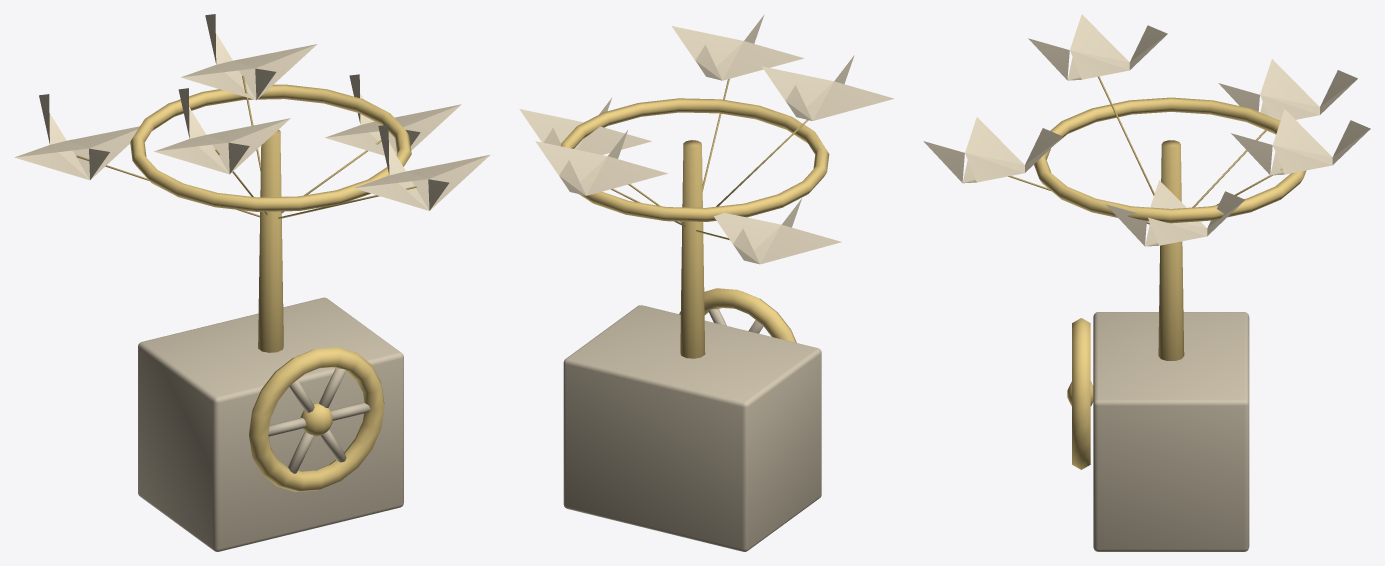
File: discovery_kite-garden.glb
3 views of the same model, side by side, from view 1: azimuth 30°, elevation 25°; view 2: azimuth 150°, elevation 25°; view 3: azimuth 270°, elevation 25° (orthographic). The views are drawn at different scales.
Parts seen in each view (by area): view 1: discovery_kite-garden_part_0, discovery_kite-garden_part_1, discovery_kite-garden_part_3, discovery_kite-garden_part_6, discovery_kite-garden_part_4, discovery_kite-garden_part_5, discovery_kite-garden_part_2; view 2: discovery_kite-garden_part_0, discovery_kite-garden_part_4, discovery_kite-garden_part_3, discovery_kite-garden_part_6, discovery_kite-garden_part_5, discovery_kite-garden_part_2, discovery_kite-garden_part_1; view 3: discovery_kite-garden_part_0, discovery_kite-garden_part_4, discovery_kite-garden_part_3, discovery_kite-garden_part_6, discovery_kite-garden_part_5, discovery_kite-garden_part_2, discovery_kite-garden_part_1.
Boxes of the visible parts, x1,y1,x2,y2 form: discovery_kite-garden_part_0: (130, 84, 411, 551); discovery_kite-garden_part_1: (249, 347, 384, 491); discovery_kite-garden_part_3: (278, 124, 490, 219); discovery_kite-garden_part_6: (181, 14, 317, 170); discovery_kite-garden_part_4: (154, 88, 290, 215); discovery_kite-garden_part_5: (14, 94, 259, 217); discovery_kite-garden_part_2: (281, 74, 461, 213); discovery_kite-garden_part_0: (561, 98, 829, 551); discovery_kite-garden_part_4: (716, 55, 894, 206); discovery_kite-garden_part_3: (671, 14, 803, 191); discovery_kite-garden_part_6: (535, 130, 685, 226); discovery_kite-garden_part_5: (696, 198, 841, 264); discovery_kite-garden_part_2: (519, 98, 682, 223); discovery_kite-garden_part_1: (679, 288, 796, 342); discovery_kite-garden_part_0: (1034, 97, 1306, 551); discovery_kite-garden_part_4: (1028, 14, 1167, 195); discovery_kite-garden_part_3: (923, 117, 1149, 224); discovery_kite-garden_part_6: (1217, 109, 1370, 204); discovery_kite-garden_part_5: (1192, 59, 1357, 207); discovery_kite-garden_part_2: (1106, 180, 1245, 246); discovery_kite-garden_part_1: (1067, 318, 1093, 469).
Size of the model in its own units: 3.69 by 4.18 by 3.74.
